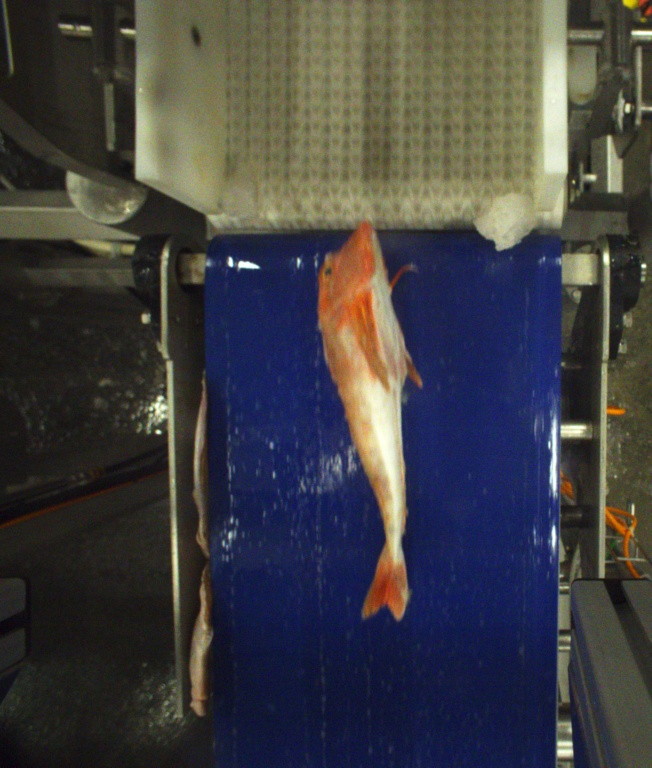GUU: (316, 220, 416, 622)
